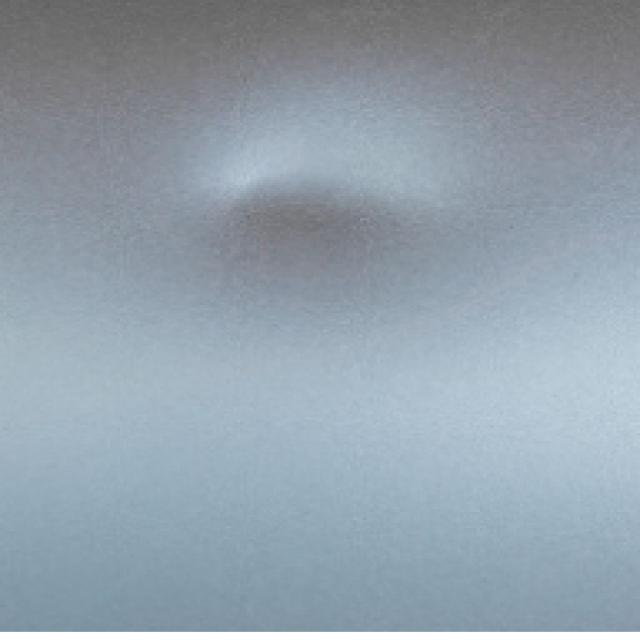dents: (170, 146, 460, 262)
